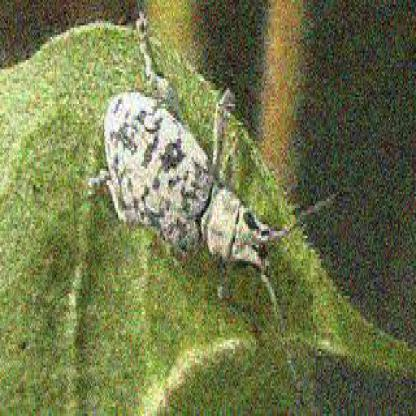ash weevil: (98, 20, 272, 282)
